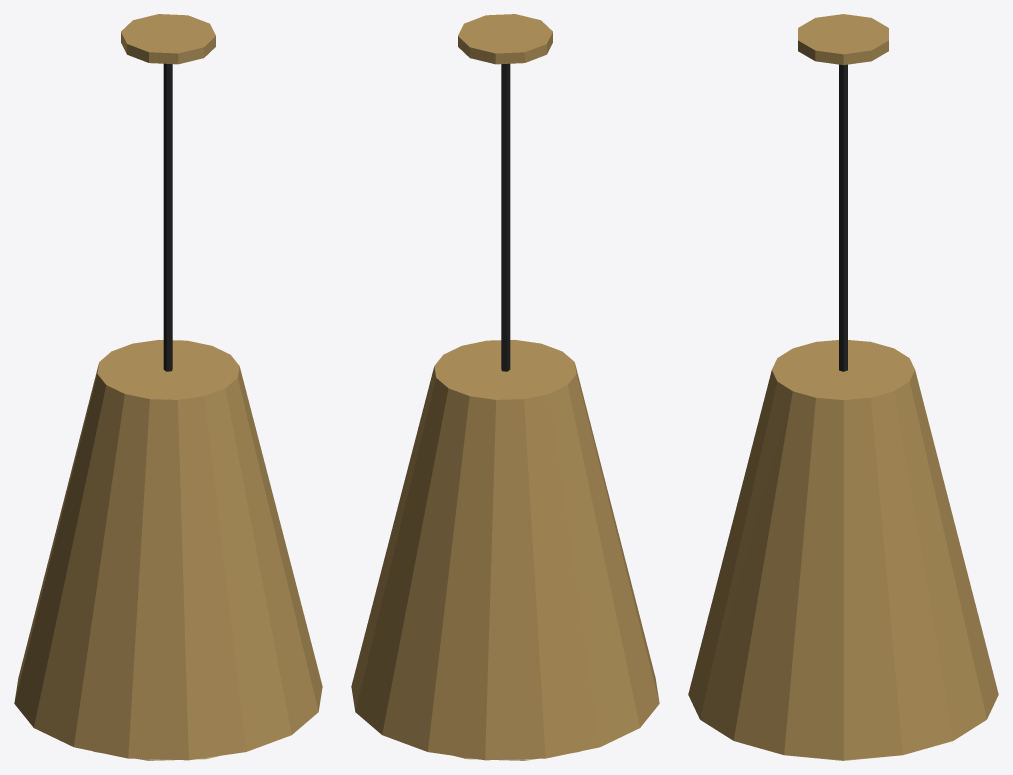
Rendered from pendente_dourado.obj.
3 renders of one model, left to right at view 1: azimuth 30°, elevation 25°; view 2: azimuth 150°, elevation 25°; view 3: azimuth 270°, elevation 25°, orthographic.
Parts seen in each view (by area): view 1: pendente_dourado; view 2: pendente_dourado; view 3: pendente_dourado.
Boxes of the visible parts, x1=… form: pendente_dourado: x1=14, y1=14, x2=322, y2=760; pendente_dourado: x1=351, y1=14, x2=659, y2=760; pendente_dourado: x1=688, y1=14, x2=998, y2=760.
Bounding box in the file's own units: 26 × 62 × 26.
